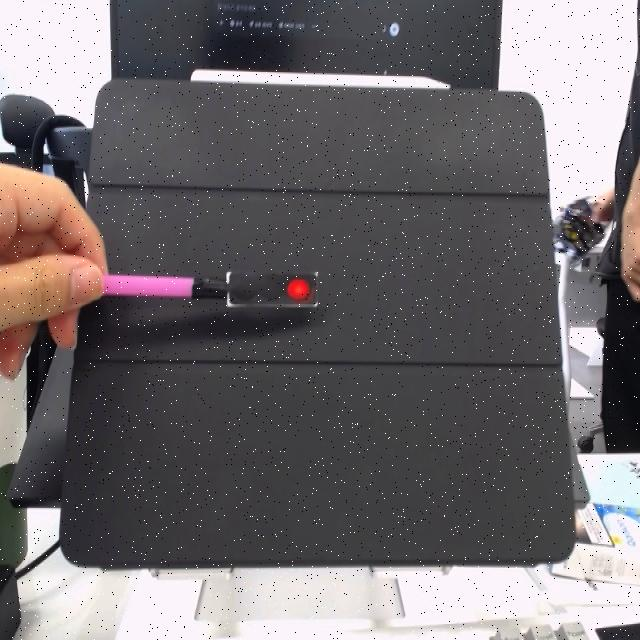traffic light: (216, 271, 320, 312)
